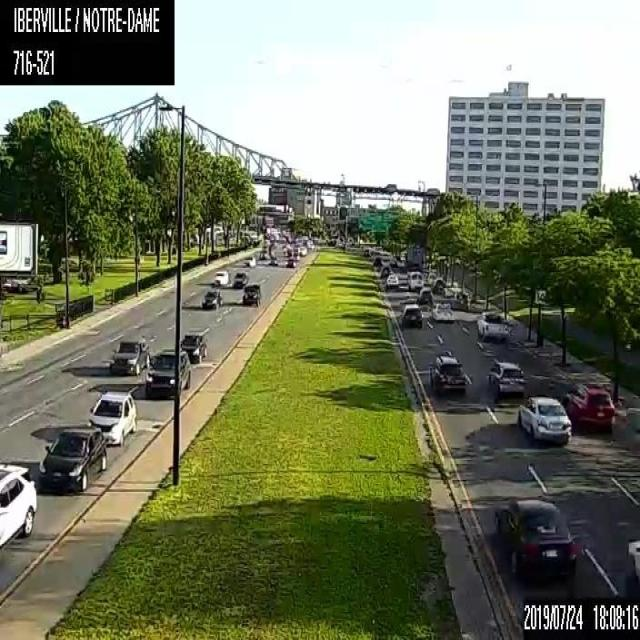vehicle: (492, 497, 574, 580), (38, 427, 106, 490), (0, 462, 35, 549), (562, 382, 614, 434), (86, 390, 136, 444), (517, 396, 570, 442), (145, 349, 190, 397), (427, 352, 465, 395), (109, 334, 149, 372), (487, 357, 524, 395), (477, 309, 509, 340), (180, 328, 206, 362), (624, 539, 639, 593), (406, 243, 423, 269), (400, 304, 421, 325), (201, 289, 222, 308), (431, 301, 452, 320), (243, 284, 261, 304), (406, 269, 423, 289), (449, 291, 466, 309), (417, 286, 432, 304), (212, 269, 229, 284), (232, 271, 247, 287), (432, 276, 444, 292), (385, 272, 398, 286), (378, 264, 391, 276), (242, 255, 255, 266), (259, 247, 268, 259), (284, 256, 294, 266), (372, 256, 382, 266), (268, 255, 277, 265), (299, 245, 306, 255), (363, 247, 370, 256)
